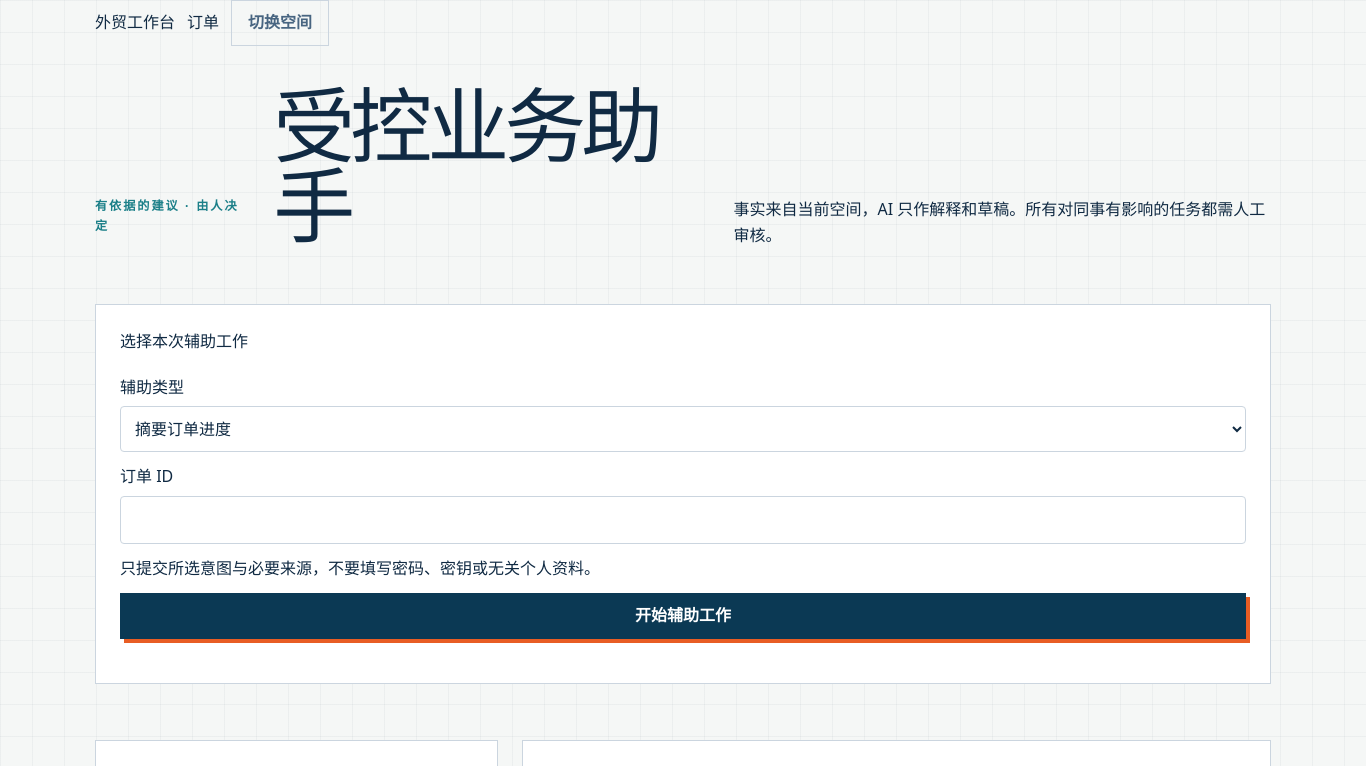
Test: CopilotWorkspace › validates the selected order before submitting
Type "not-an-order-id" into the field labelled "订单 ID" at x=683, y=520, box [120,496,1246,544]
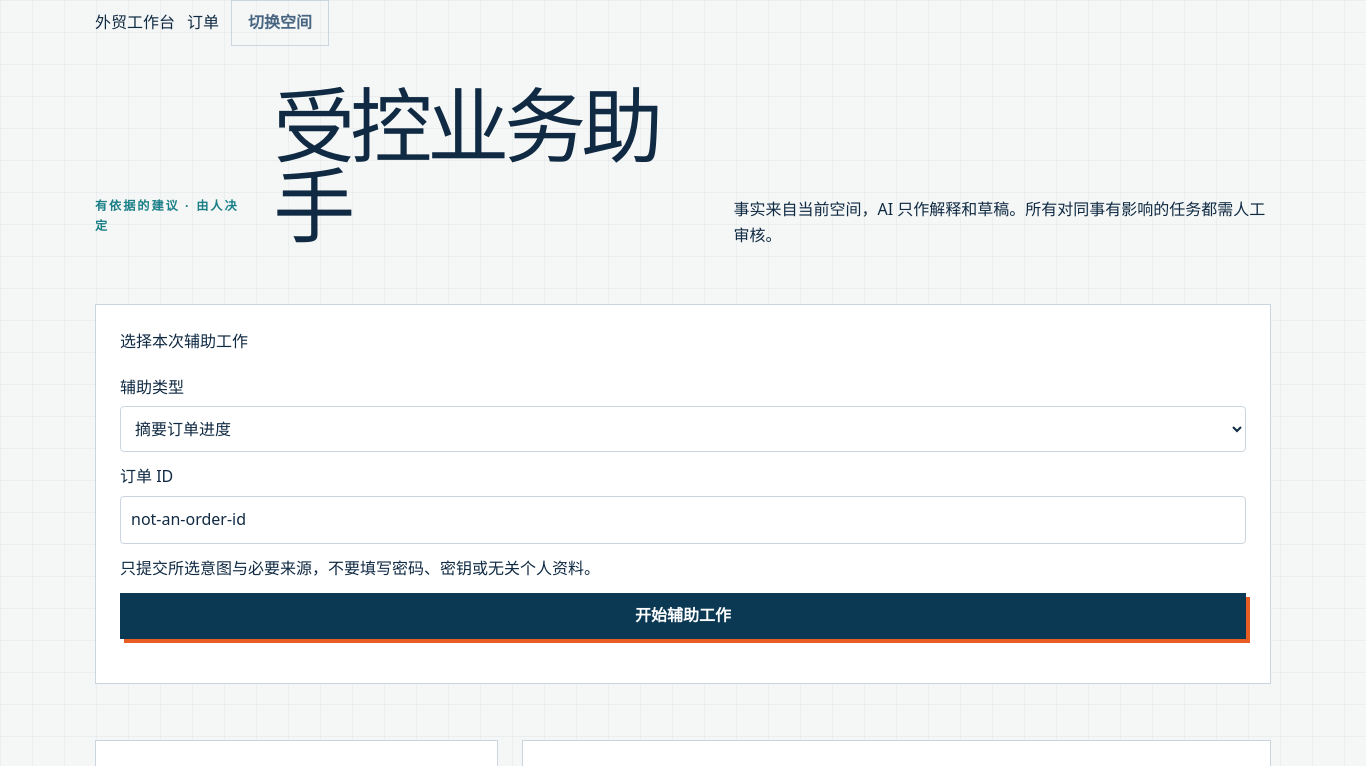
Click the button "开始辅助工作" at x=683, y=616, box [120,593,1246,639]
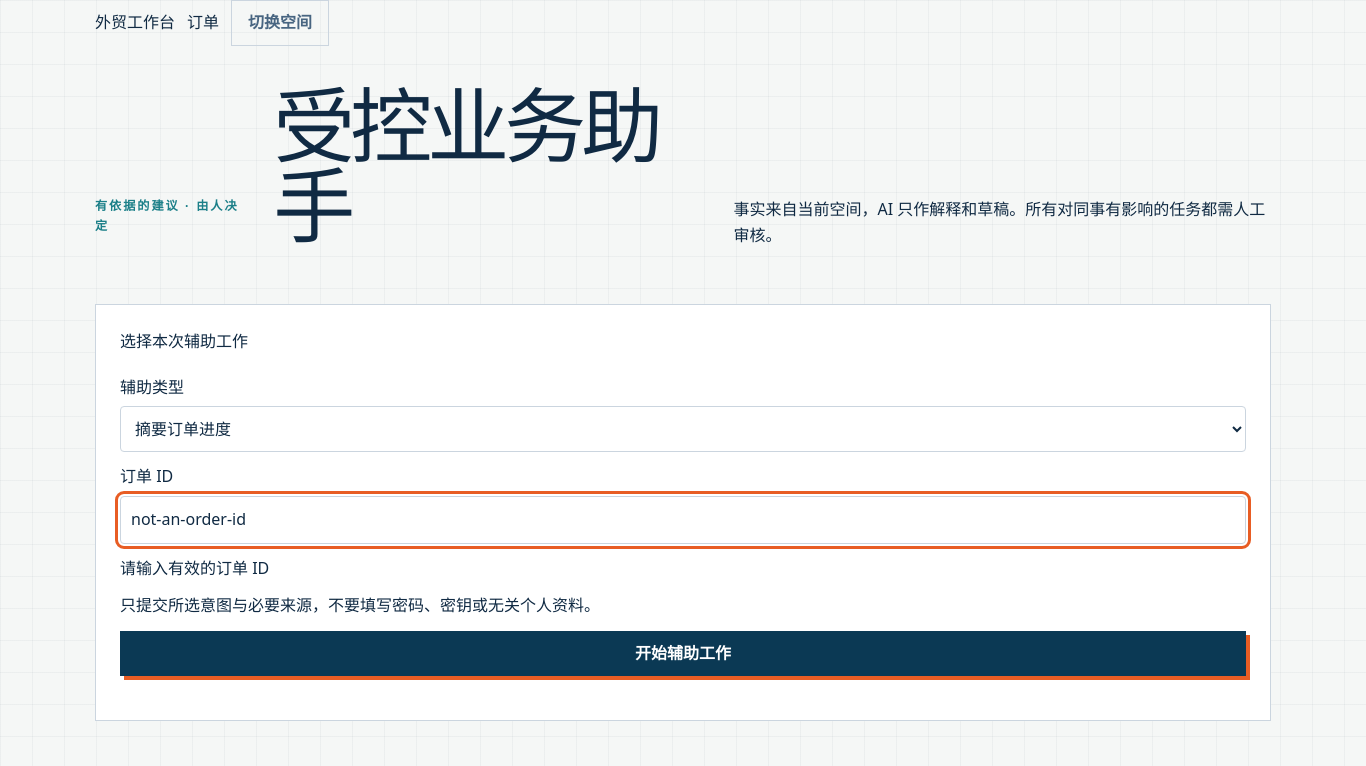
Check: the message reads "请输入有效的订单 ID", box [120,557,269,579]
